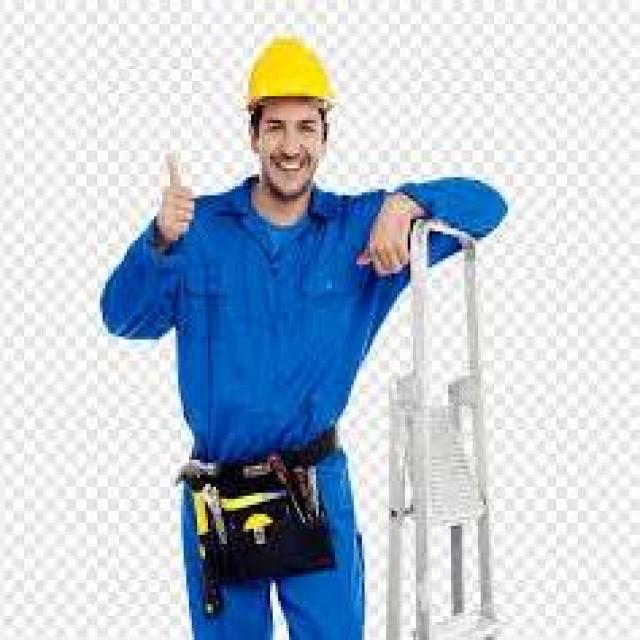Safety-Helmet: (232, 24, 351, 120)
